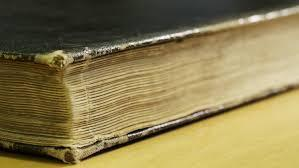Paper: (1, 0, 299, 168)
